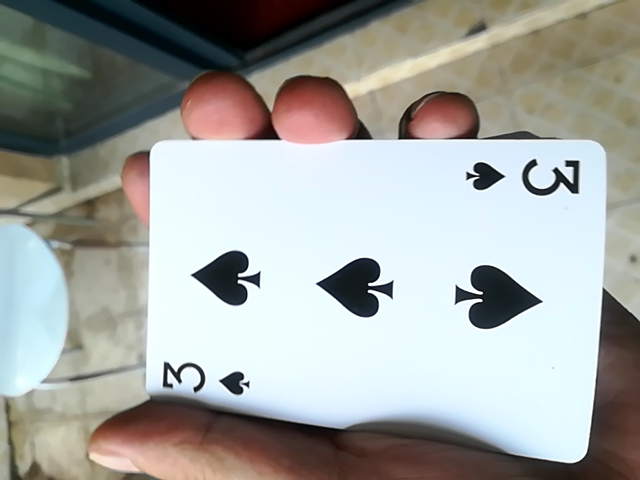ht 3: (127, 129, 627, 454)
